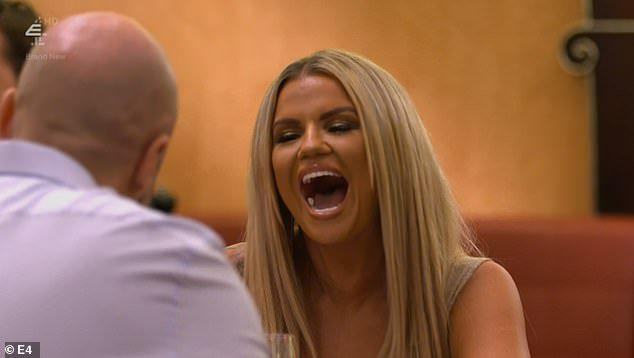Drunk: (275, 79, 377, 243)
